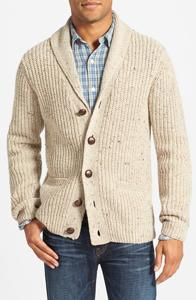S_cardigan sweater: (12, 19, 196, 255)
